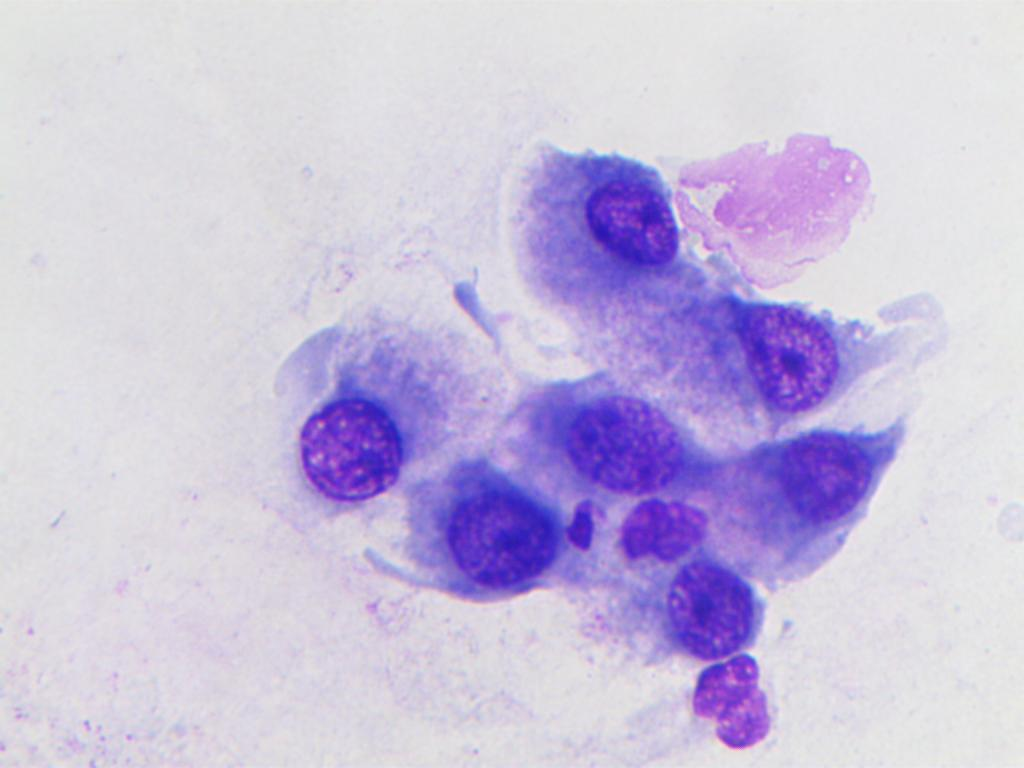artifact: (678, 120, 880, 287)
epithelial: (400, 455, 562, 606), (764, 419, 912, 545), (664, 642, 819, 754), (561, 386, 684, 487), (643, 562, 766, 663), (606, 492, 716, 568)
goblet_cell: (493, 128, 677, 327), (685, 280, 859, 422), (263, 372, 411, 518)
